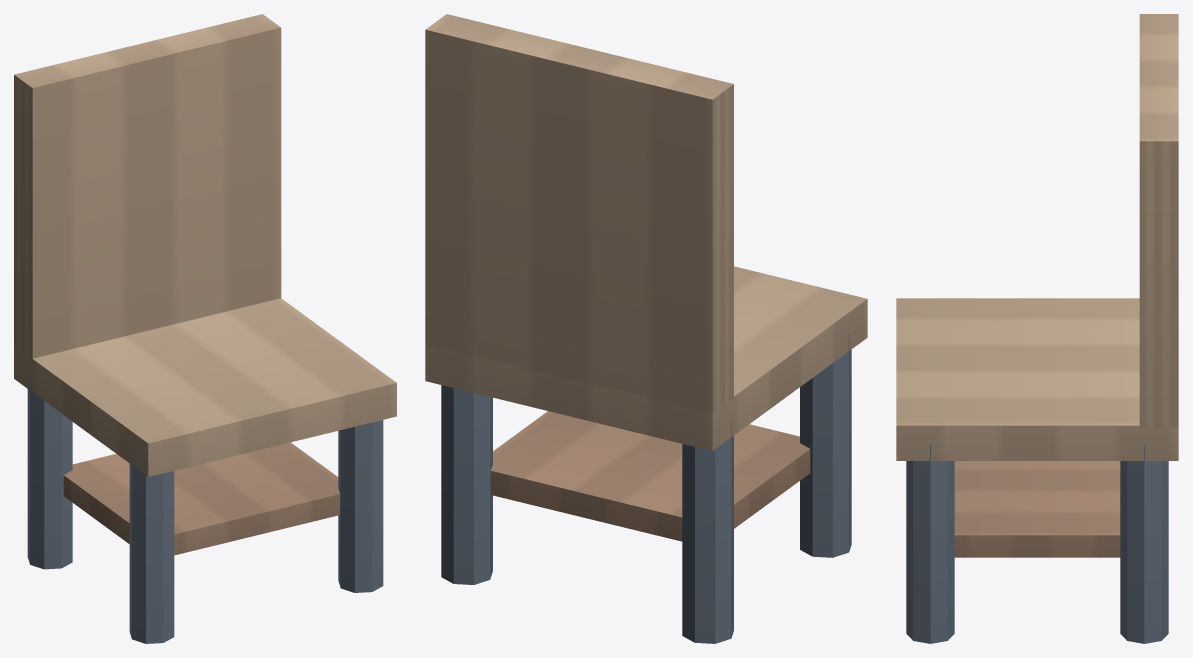
Rendered from cafe_chair.glb.
3 views of the same model, side by side, from view 1: azimuth 30°, elevation 25°; view 2: azimuth 150°, elevation 25°; view 3: azimuth 270°, elevation 25° (orthographic). The views are drawn at different scales.
Visible parts, largest first — view 1: cafe_chair; view 2: cafe_chair; view 3: cafe_chair.
Part boxes in pixels (bbox=[...]): cafe_chair: bbox=[14, 14, 396, 643]; cafe_chair: bbox=[425, 14, 867, 643]; cafe_chair: bbox=[896, 14, 1178, 643].
Size of the model in its own units: 0.6208 by 1.14 by 0.58.
1 material, 1 textured.
